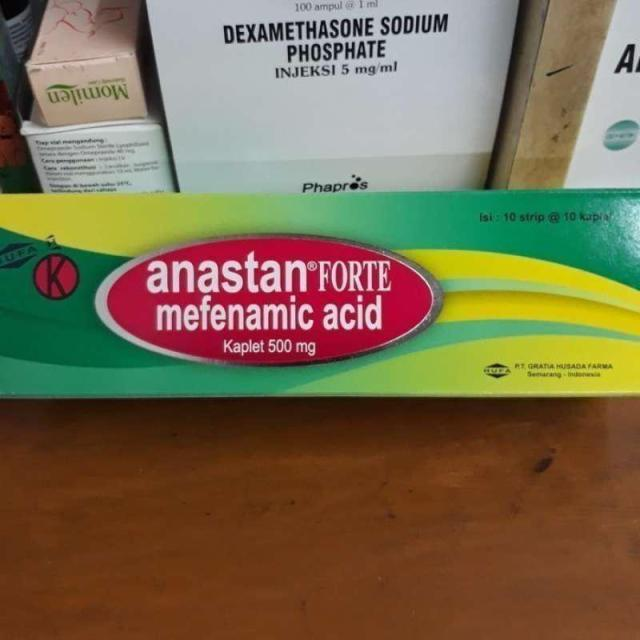drug-name: (144, 250, 394, 294)
